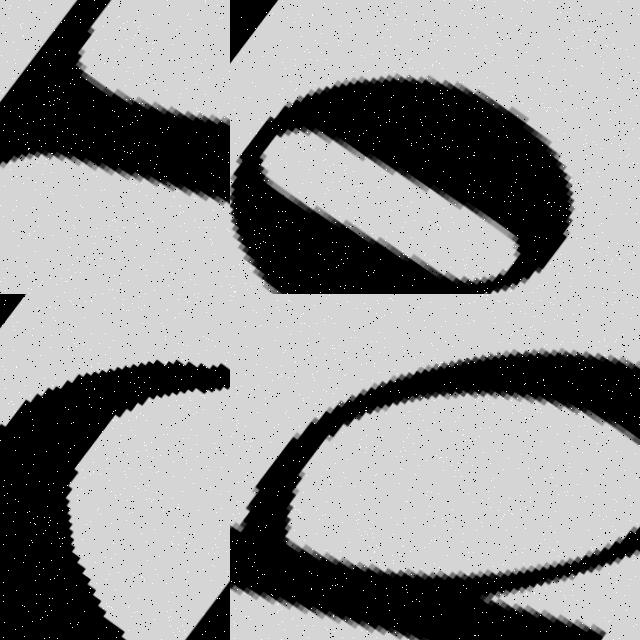6: (230, 0, 640, 294)
E: (0, 353, 230, 640)
P: (230, 346, 640, 640)
R: (0, 0, 230, 294)
